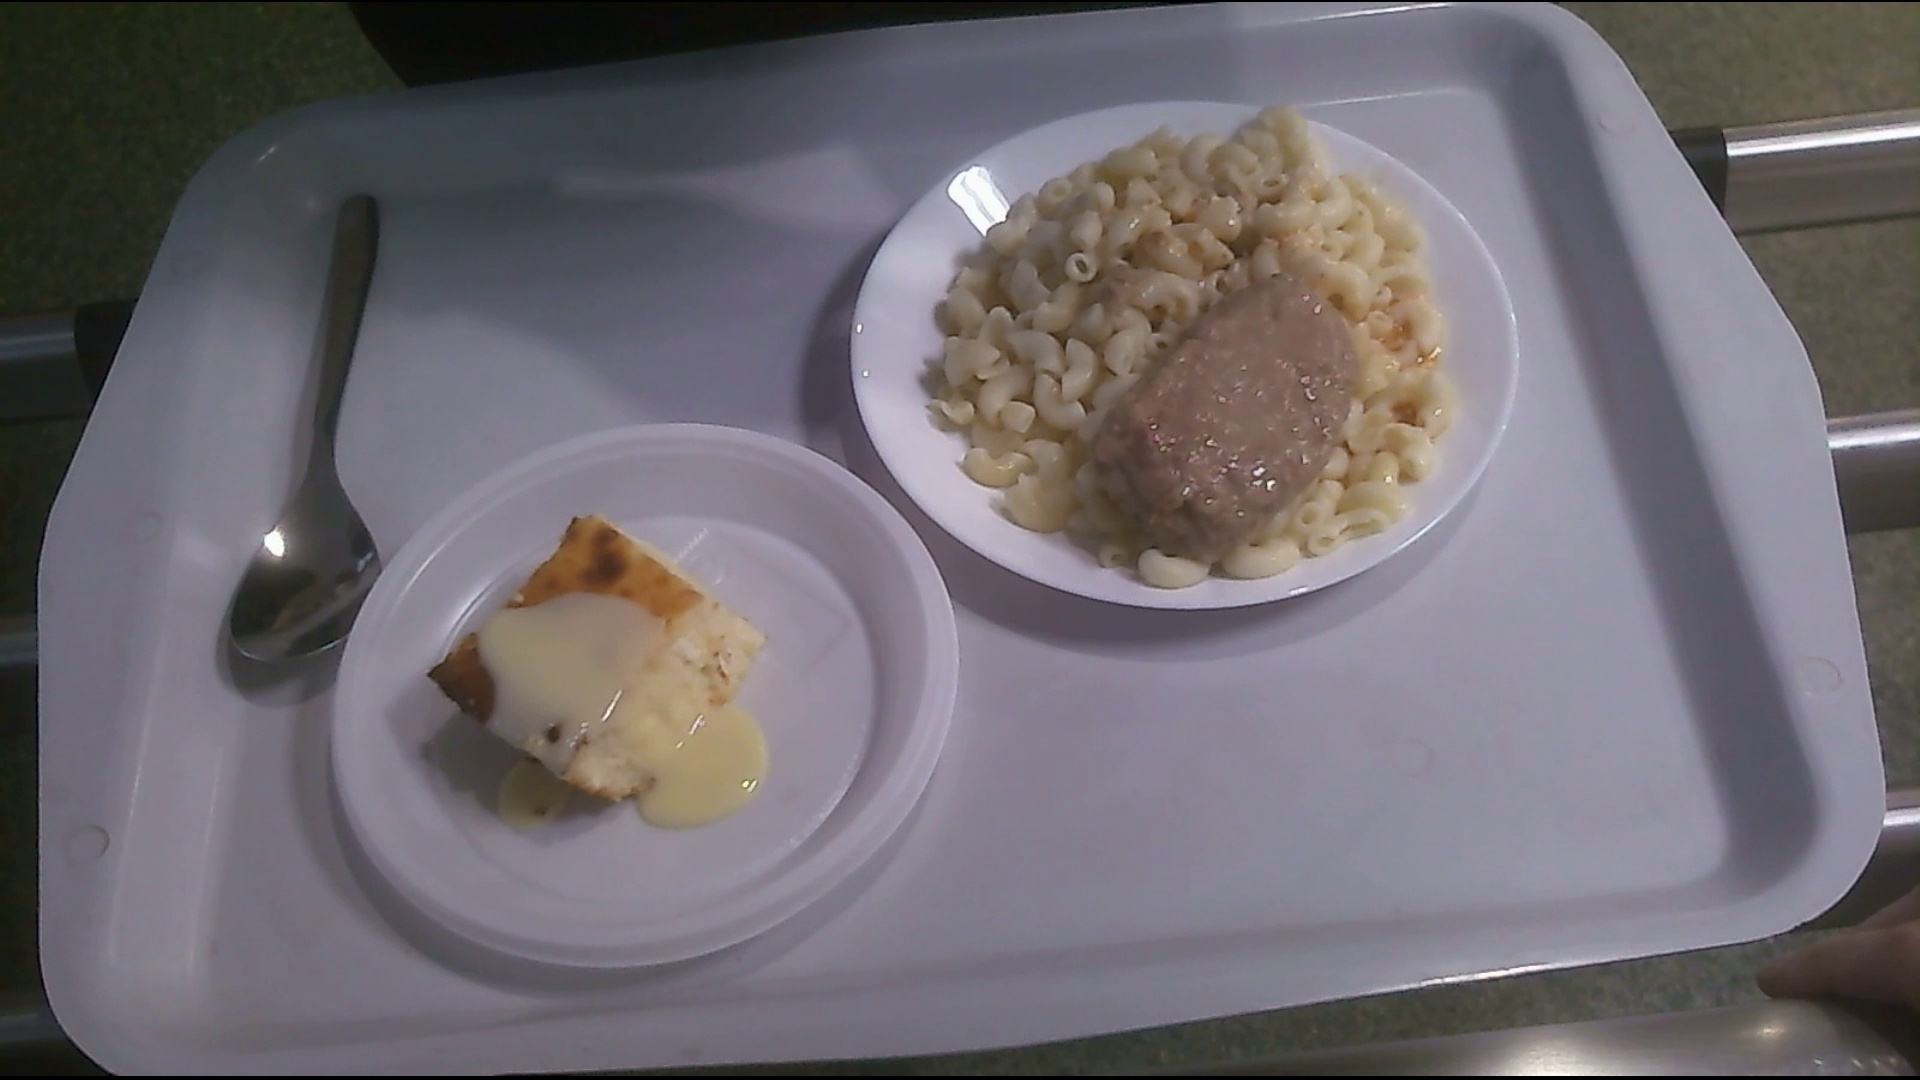cutlery: (233, 175, 389, 727)
plate: (839, 100, 1534, 615), (335, 425, 953, 967)
